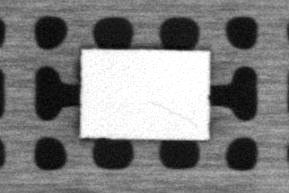DIE_CRACK: (146, 100, 203, 128)
